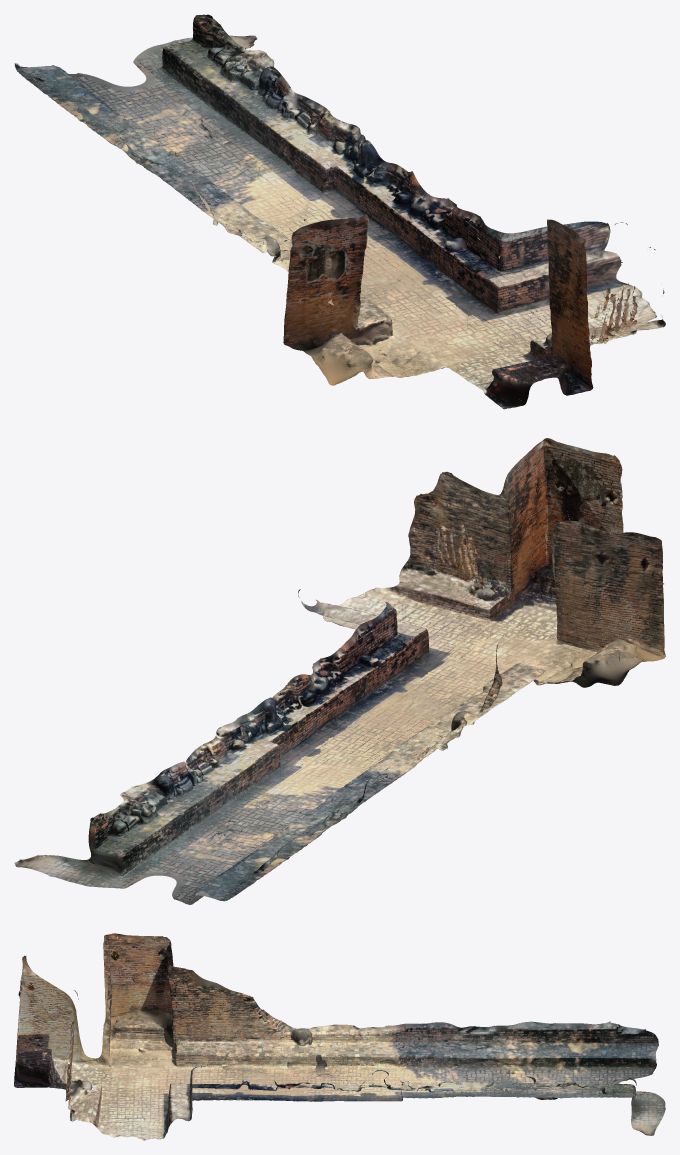
3 renders of one model, top to bottom at view 1: azimuth 30°, elevation 25°; view 2: azimuth 150°, elevation 25°; view 3: azimuth 270°, elevation 25°, orthographic. The views are drawn at different scales.
Bounding box in the file's own units: 10.31 × 4.89 × 24.64.
Materials: 2 (2 with a texture image).
